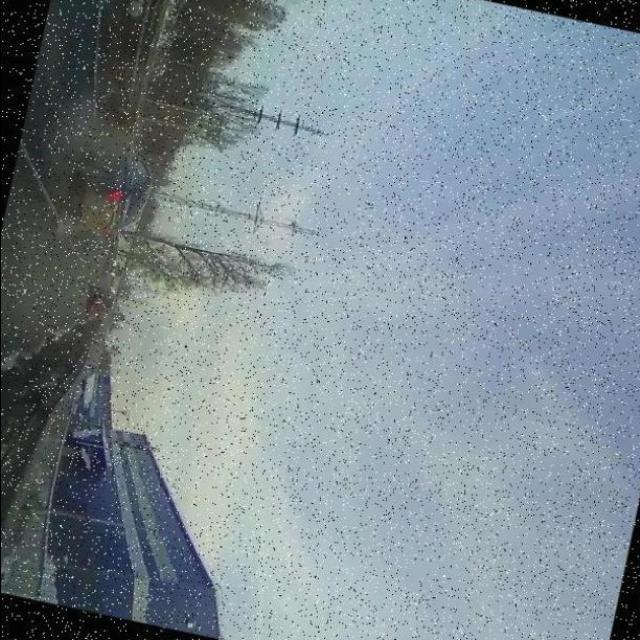accident: (56, 118, 184, 248)
